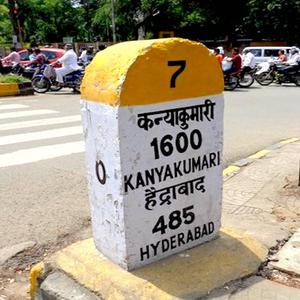kmstone: (80, 38, 226, 267)
